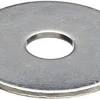No thread: (23, 28, 75, 61)
